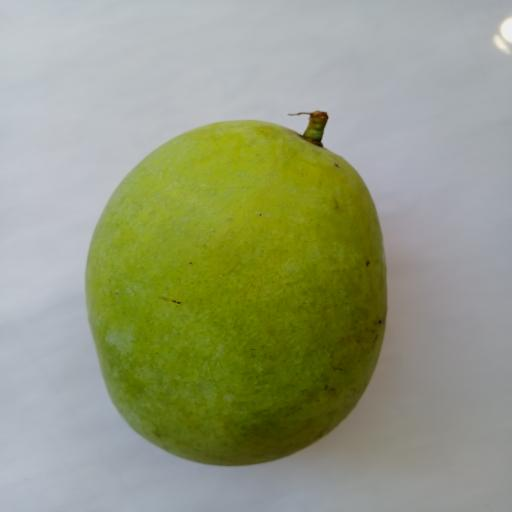mango-unripe: (83, 86, 400, 480)
